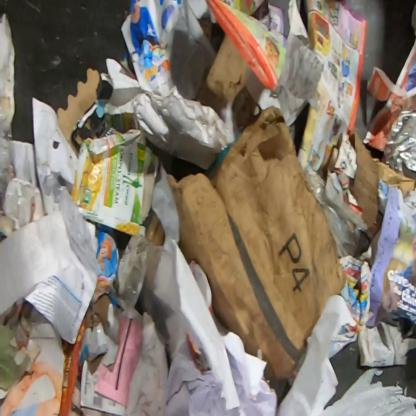cardboard: (167, 104, 346, 383), (70, 127, 160, 238), (346, 130, 415, 228), (196, 34, 252, 119), (55, 66, 102, 158)
metal: (384, 107, 415, 173)
rigid_plastic: (116, 236, 147, 309)
soft_plastic: (303, 161, 369, 258), (0, 10, 17, 198)
